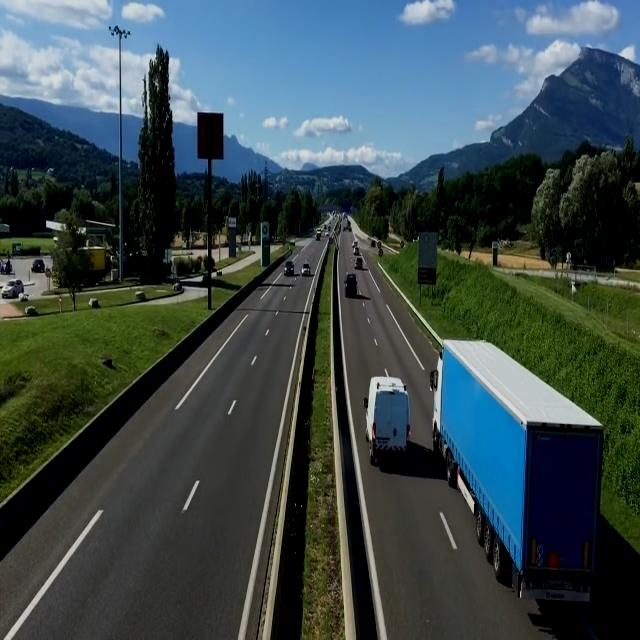Car: (343, 271, 358, 299), (284, 260, 294, 278), (301, 263, 311, 277)
Truck: (428, 337, 608, 612)
Van: (361, 372, 413, 473)
